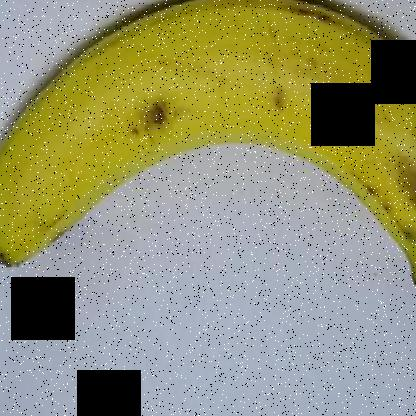freshripe: (0, 1, 415, 301)
